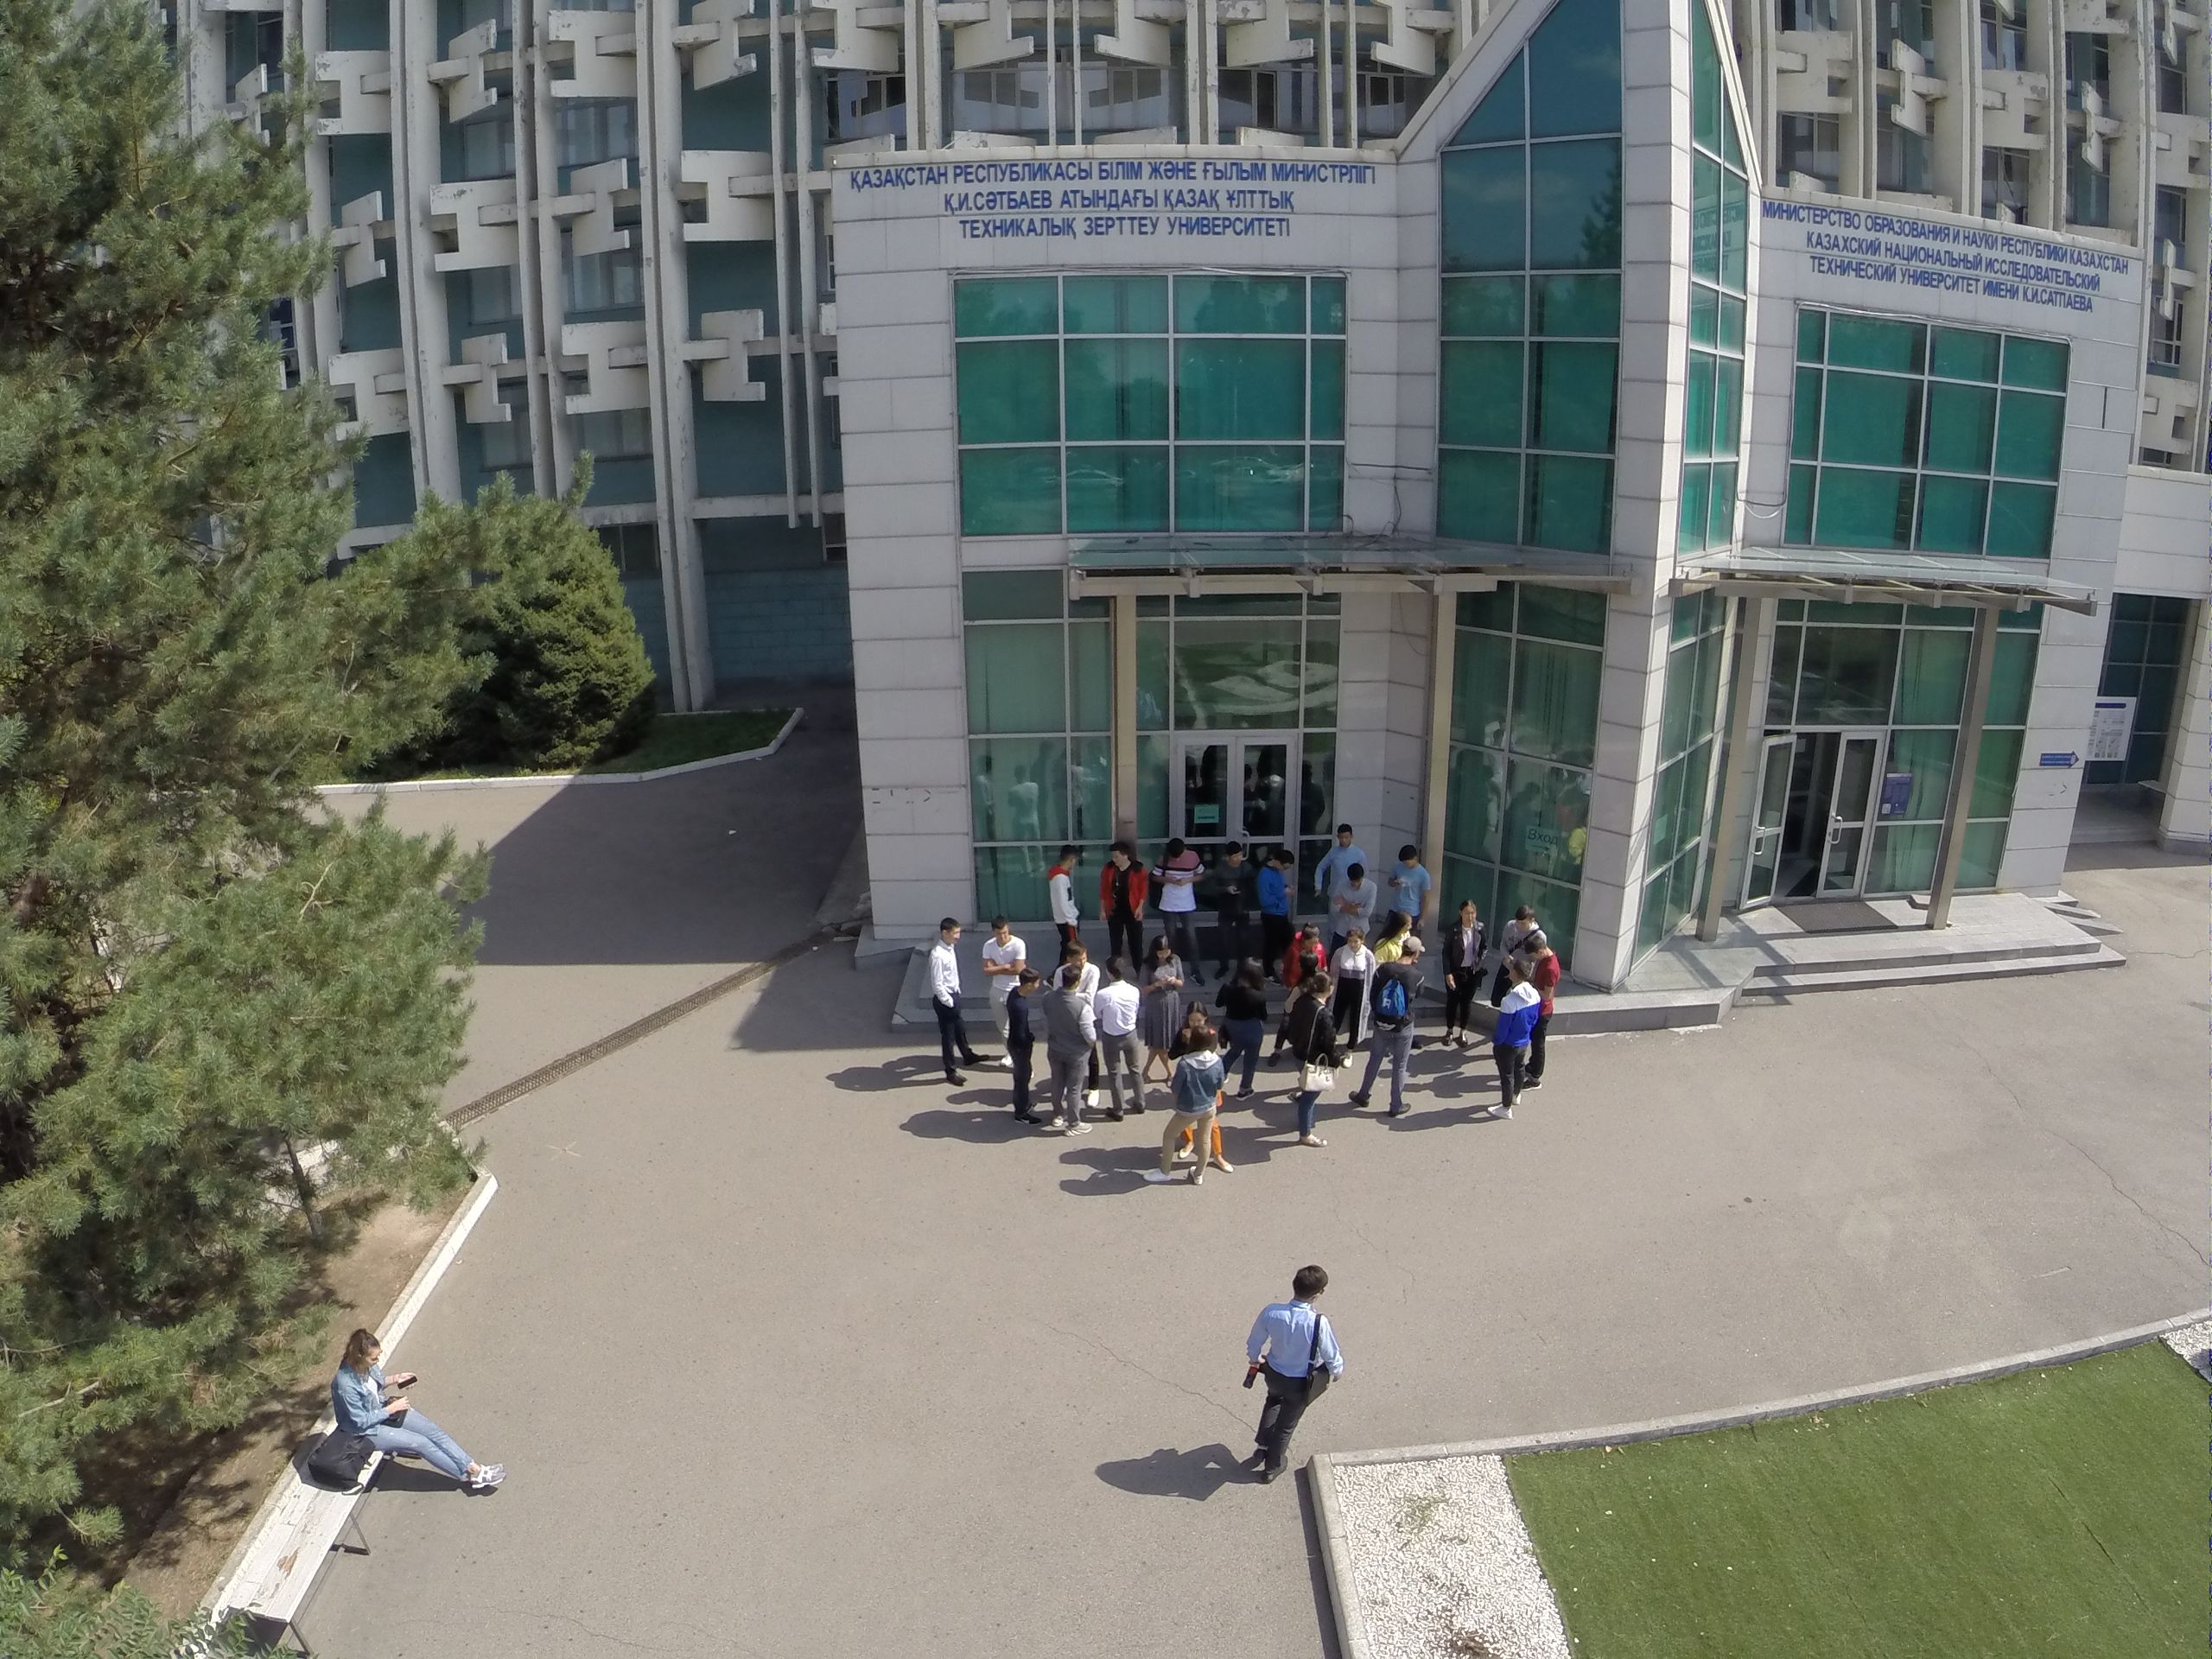person: (300, 1319, 504, 1508), (1240, 1238, 1357, 1504), (1345, 942, 1429, 1123), (928, 906, 990, 1091), (1286, 976, 1350, 1156), (1149, 1037, 1218, 1198), (1093, 952, 1148, 1116), (1495, 963, 1545, 1141), (1042, 966, 1090, 1142), (1435, 898, 1490, 1053), (1139, 938, 1186, 1089), (977, 918, 1027, 1063), (1094, 840, 1156, 951), (1034, 844, 1091, 961), (1223, 951, 1267, 1103), (1526, 942, 1567, 1103), (1005, 966, 1039, 1139), (1257, 849, 1308, 958), (1154, 839, 1208, 940), (1212, 841, 1262, 944), (1323, 861, 1382, 937), (1389, 848, 1431, 926), (1319, 820, 1368, 893), (1333, 922, 1372, 994), (1377, 912, 1421, 966), (1506, 903, 1545, 962)
